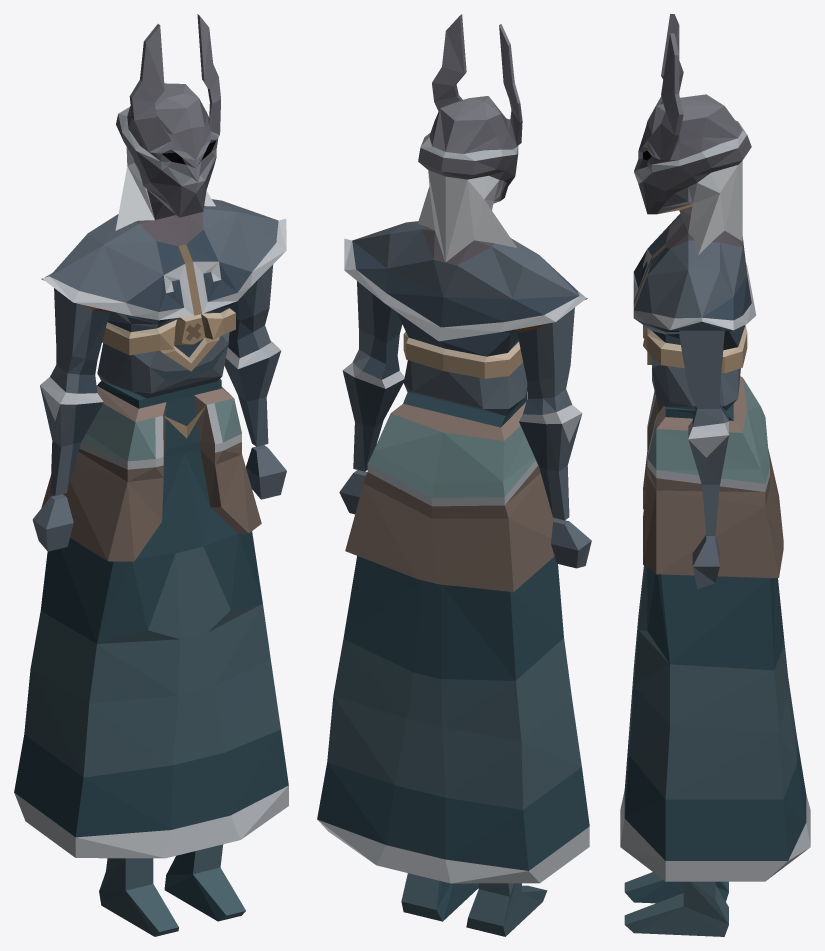
The model's file is glacies.glb.
3 renders of one model, left to right at view 1: azimuth 30°, elevation 25°; view 2: azimuth 150°, elevation 25°; view 3: azimuth 270°, elevation 25°, orthographic.
Bounding box in the file's own units: 62 × 216 × 42.
1 material, 1 textured.
